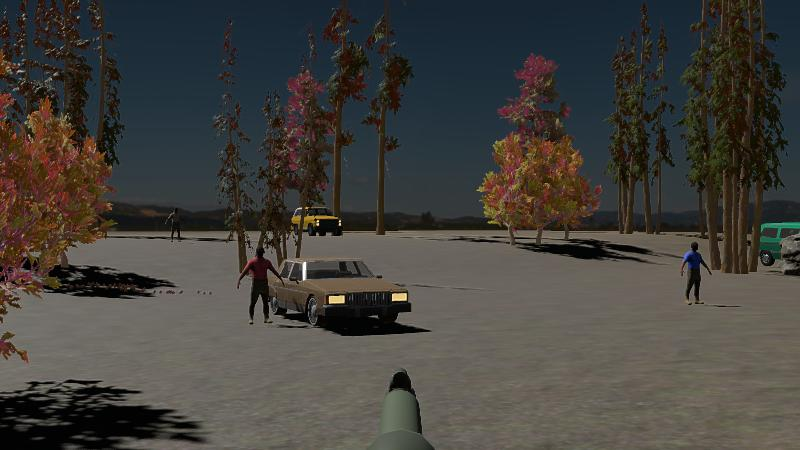Human: (236, 245, 283, 326), (680, 240, 712, 306)
car: (269, 255, 414, 328), (752, 221, 800, 266), (289, 203, 343, 239)
